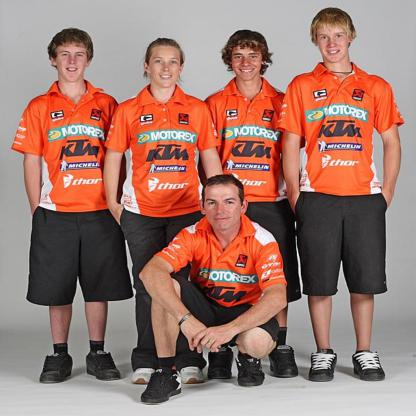face: (204, 185, 242, 231), (317, 21, 350, 63), (150, 44, 180, 88), (57, 40, 87, 82), (234, 40, 263, 80)
